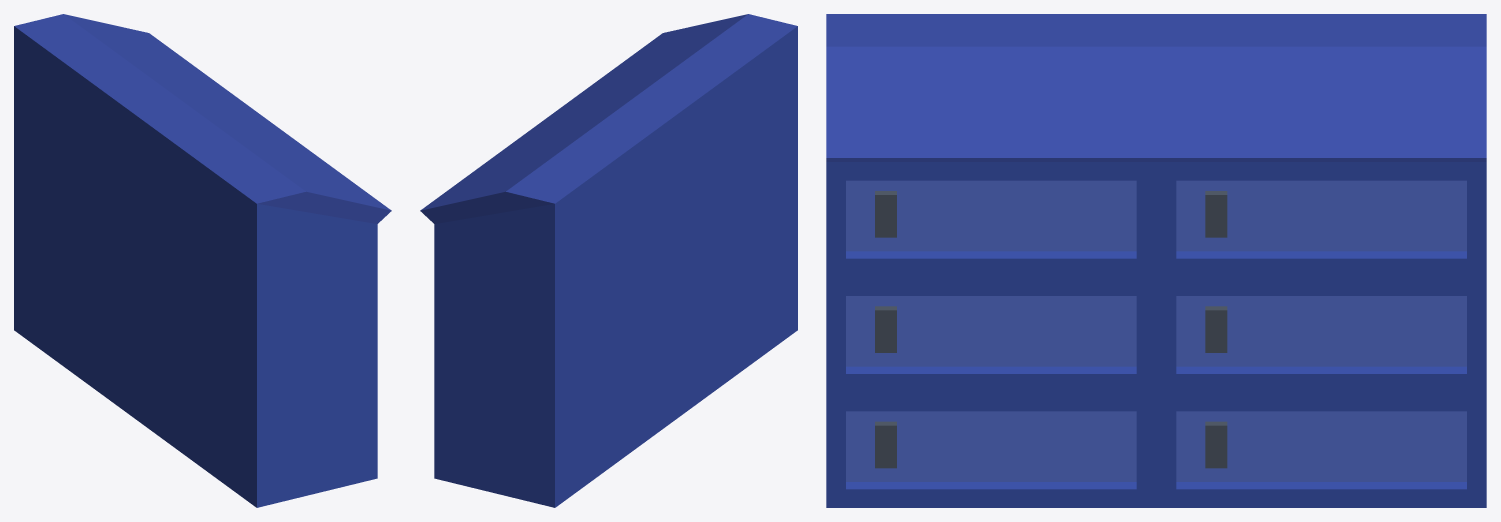
File: PostBox_2_B.fbx
3 renders of one model, left to right at view 1: azimuth 30°, elevation 25°; view 2: azimuth 150°, elevation 25°; view 3: azimuth 270°, elevation 25°, orthographic. The views are drawn at different scales.
Visible parts, largest first — view 1: PostBox_2_B; view 2: PostBox_2_B; view 3: PostBox_2_B.
Boxes of the visible parts, x1=… form: PostBox_2_B: x1=14, y1=14, x2=391, y2=507; PostBox_2_B: x1=420, y1=14, x2=797, y2=507; PostBox_2_B: x1=826, y1=14, x2=1486, y2=507.
Size of the model in its own units: 19.48 by 41.93 by 60.65.
